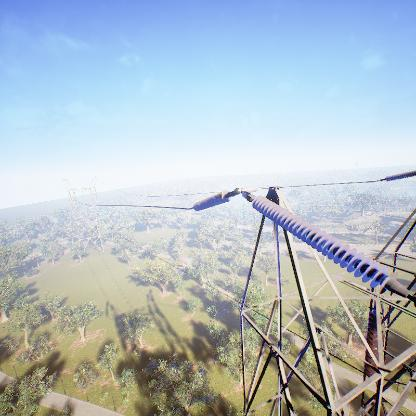insulator: (251, 194, 401, 299), (363, 307, 387, 384), (193, 190, 232, 212), (383, 170, 416, 182)
